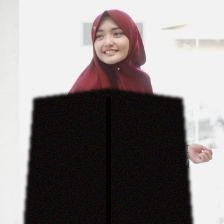Cadar_Niqab: (24, 7, 192, 224)
